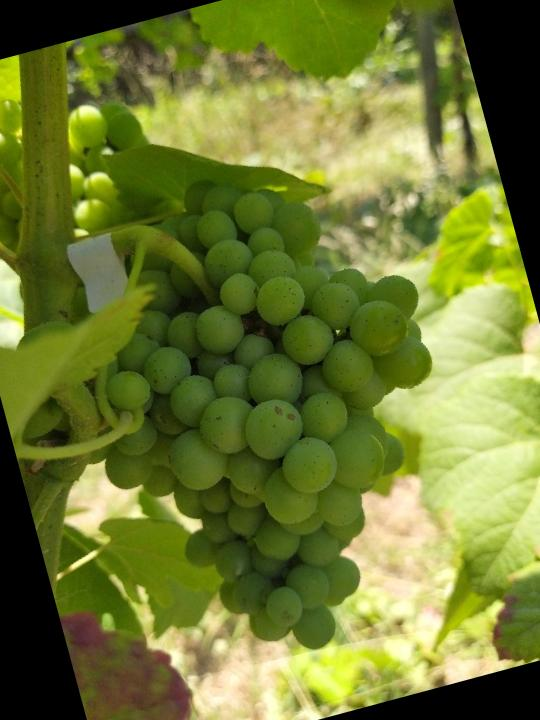grape: (27, 135, 501, 693)
